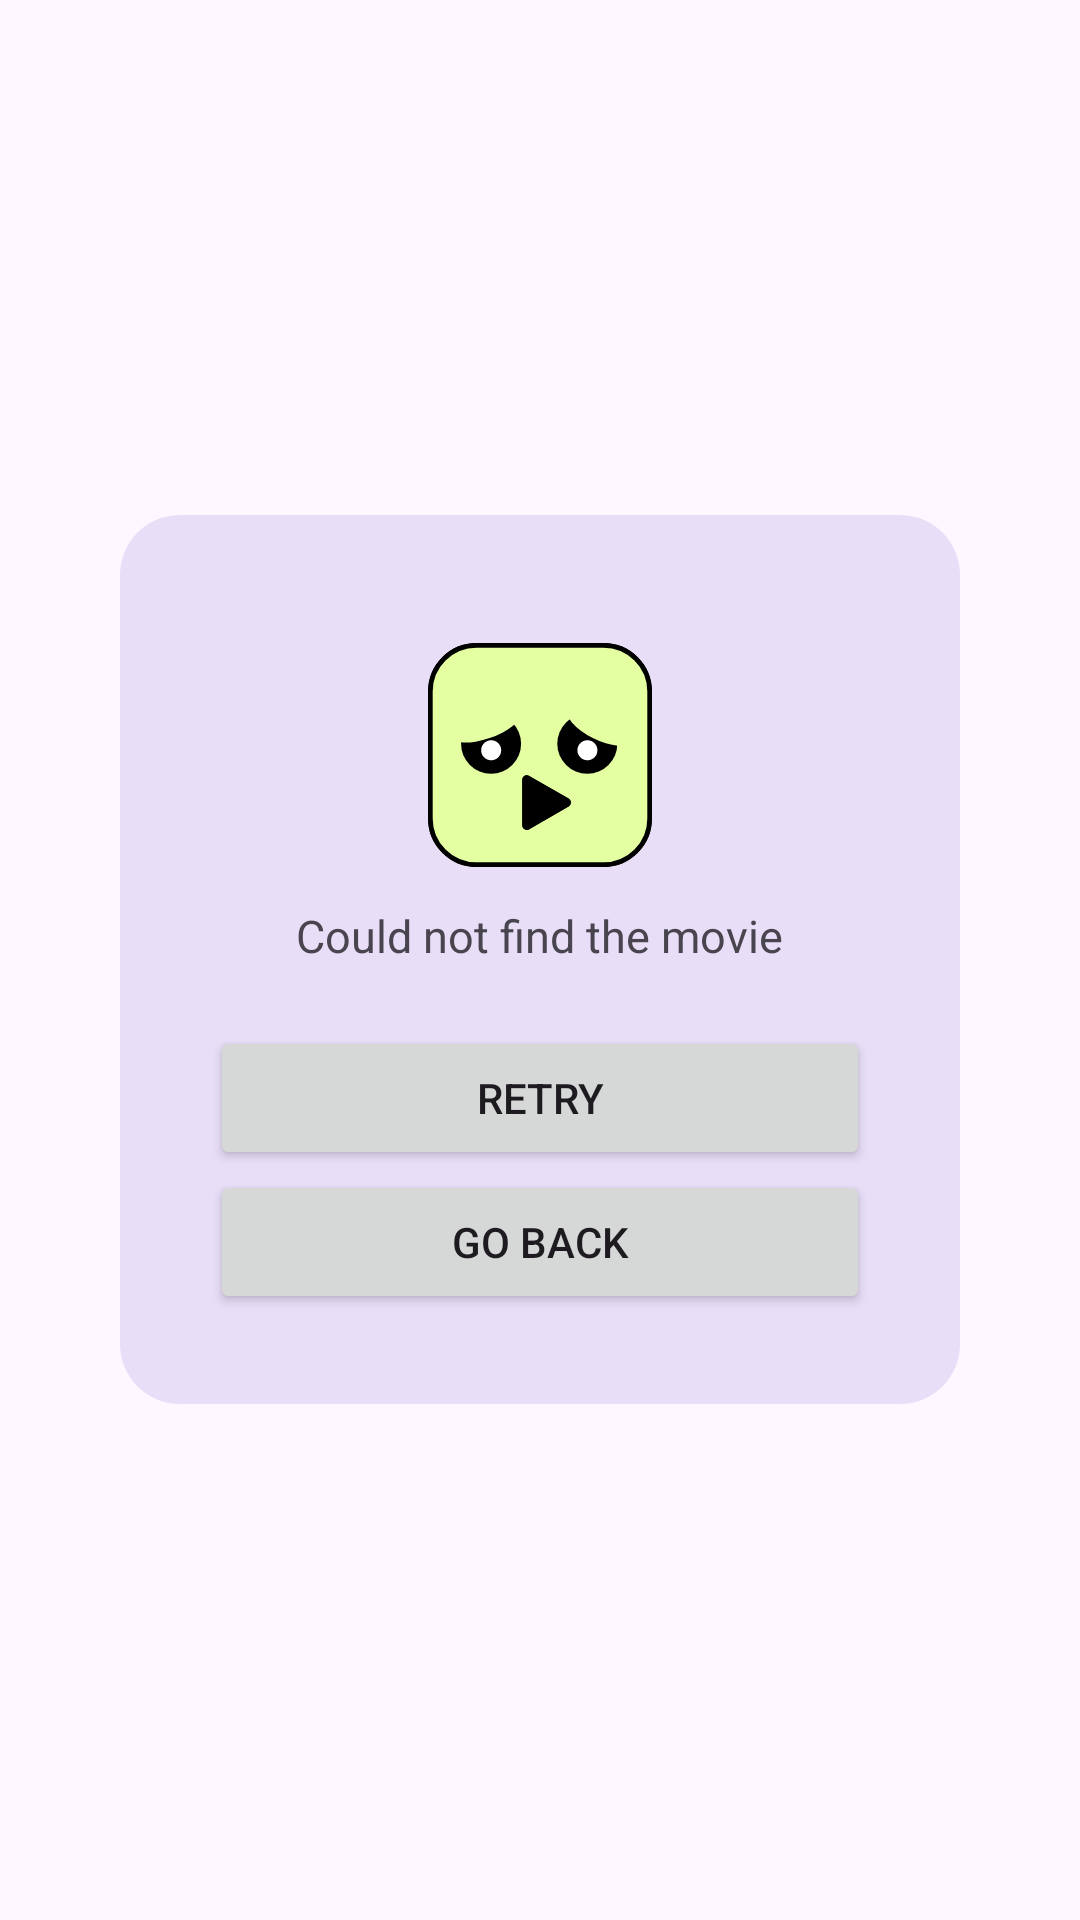

Named icons in this screenshot (1080 × 1920) and their bounding boxes, (x1, y1, x2, y2):
sad: (428, 643, 652, 867)
